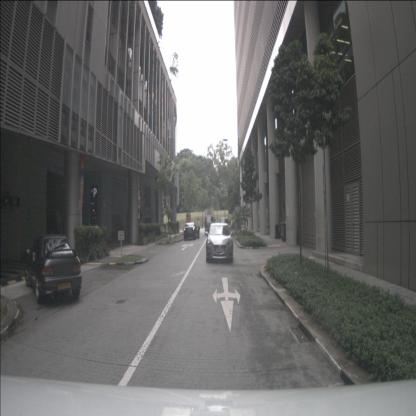human-pedestrian-adult: (196, 216, 201, 239)
vehicle-car: (24, 235, 82, 304), (206, 223, 233, 263), (183, 222, 198, 240), (220, 218, 228, 234)
vehicle-truck: (205, 208, 214, 236)
